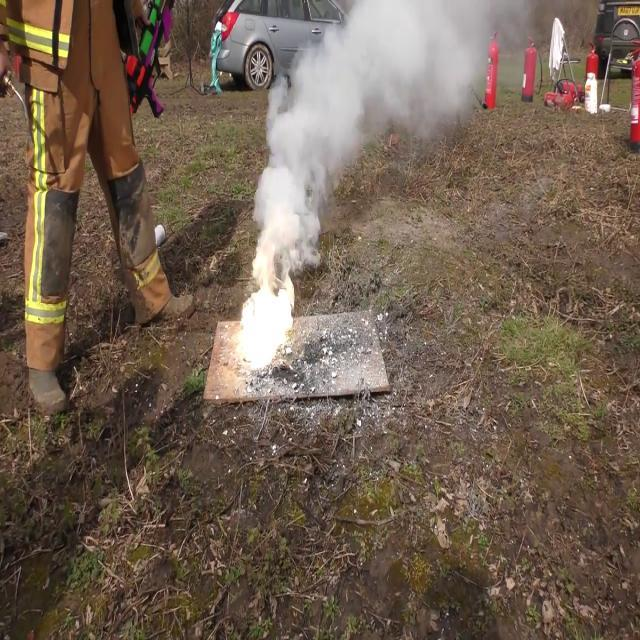Fire: (231, 255, 298, 372)
Smoke: (251, 0, 503, 266)
